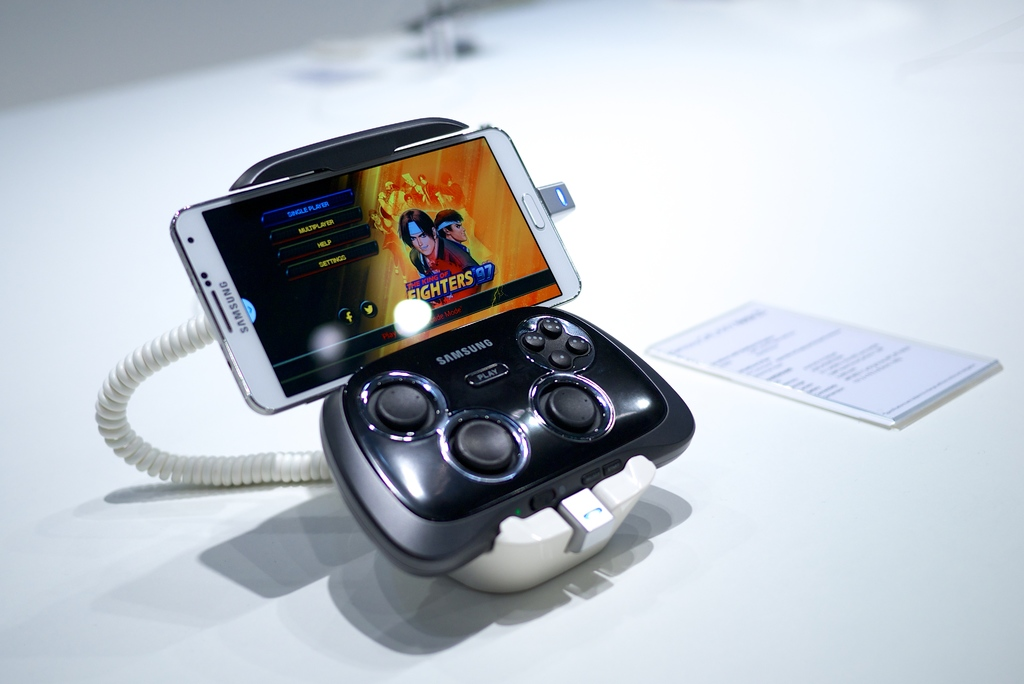Mobile-phone: (170, 126, 587, 418)
